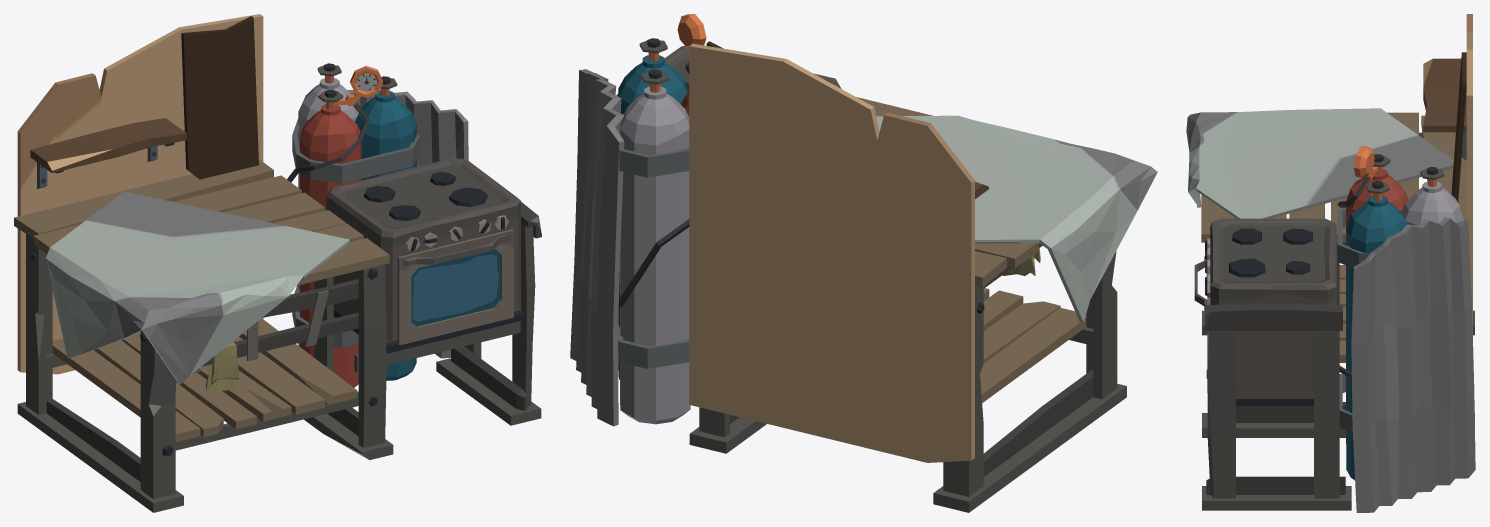
The model's file is SM_Cooking_Table.fbx.
3 renders of one model, left to right at view 1: azimuth 30°, elevation 25°; view 2: azimuth 150°, elevation 25°; view 3: azimuth 270°, elevation 25°, orthographic. The views are drawn at different scales.
Visible parts, largest first — view 1: SM_Cooking_Table, SM_Cooking_Table_Door; view 2: SM_Cooking_Table; view 3: SM_Cooking_Table, SM_Cooking_Table_Door.
Boxes of the visible parts, bbox=[...] form: SM_Cooking_Table: bbox=[14, 14, 541, 512]; SM_Cooking_Table_Door: bbox=[397, 229, 513, 345]; SM_Cooking_Table: bbox=[570, 14, 1157, 512]; SM_Cooking_Table: bbox=[1186, 14, 1475, 512]; SM_Cooking_Table_Door: bbox=[1194, 256, 1210, 392].
Size of the model in its own units: 227 by 181 by 136.
